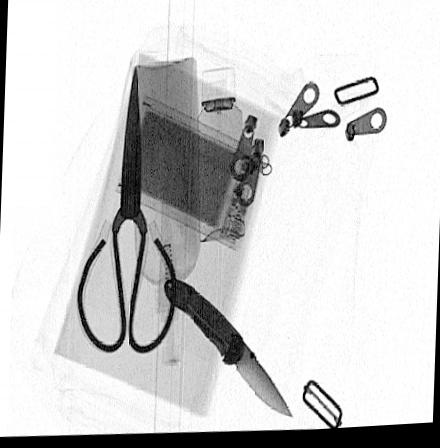Knife: (163, 277, 298, 421)
Powerbank: (114, 95, 266, 256)
Scissors: (75, 61, 178, 357)
Sprayer: (194, 68, 246, 246)
